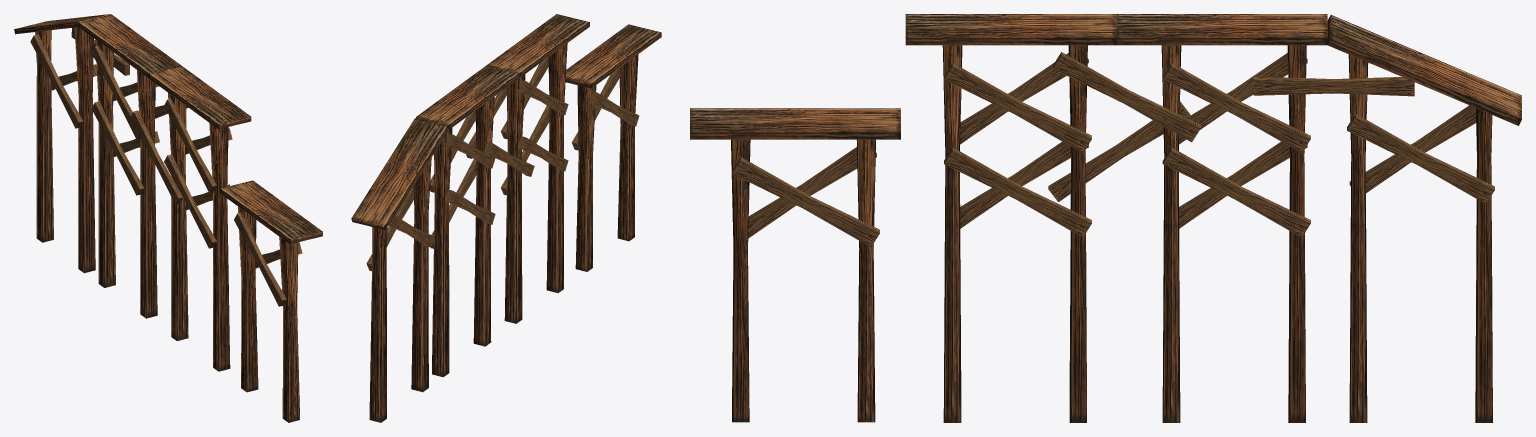
Rendered from LAKETOWN_WAREHOUSE2_PS_WH2_PLATFORM2_273__GX.fbx.
3 views of the same model, side by side, from view 1: azimuth 30°, elevation 25°; view 2: azimuth 150°, elevation 25°; view 3: azimuth 270°, elevation 25° (orthographic). The views are drawn at different scales.
Parts seen in each view (by area): view 1: LAKETOWN_WAREHOUSE2_PS_WH2_PLATFORM2_273__GX; view 2: LAKETOWN_WAREHOUSE2_PS_WH2_PLATFORM2_273__GX; view 3: LAKETOWN_WAREHOUSE2_PS_WH2_PLATFORM2_273__GX.
Part boxes in pixels (left/top/right/bottom): LAKETOWN_WAREHOUSE2_PS_WH2_PLATFORM2_273__GX: left=14, top=14, right=322, bottom=422; LAKETOWN_WAREHOUSE2_PS_WH2_PLATFORM2_273__GX: left=351, top=14, right=661, bottom=422; LAKETOWN_WAREHOUSE2_PS_WH2_PLATFORM2_273__GX: left=690, top=14, right=1521, bottom=422.
Bounding box in the file's own units: 11045 × 82887 × 159714.
Materials: 3 (3 with a texture image).
